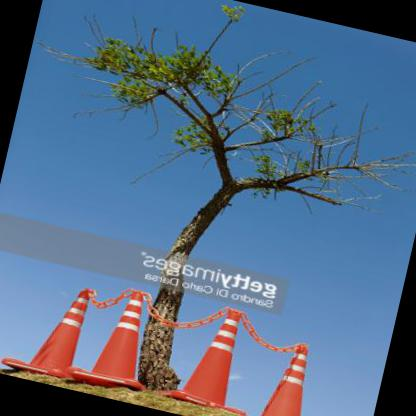cone: (161, 296, 267, 415), (71, 278, 167, 396), (4, 276, 94, 382), (258, 336, 321, 415)
